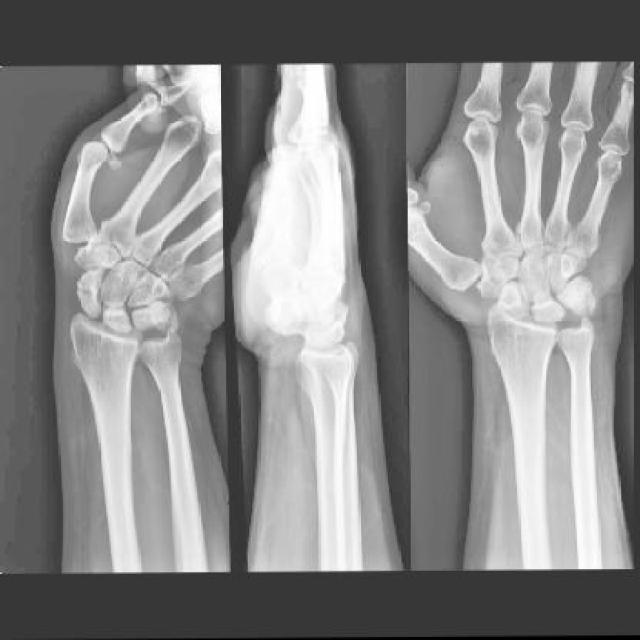Fracture: (569, 276, 603, 321), (143, 297, 174, 331)
